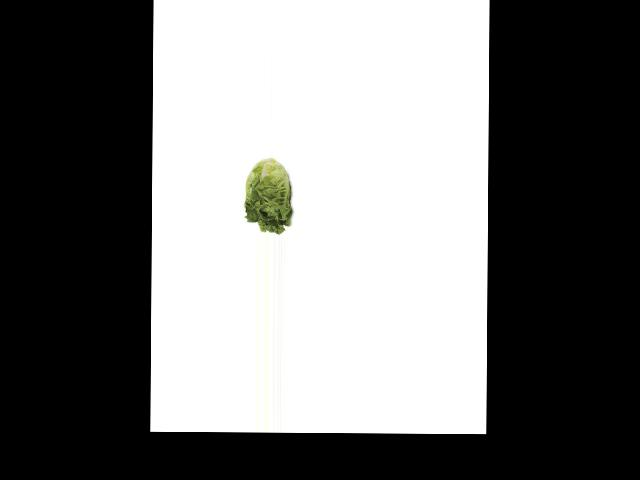lettuce: (239, 157, 295, 232)
